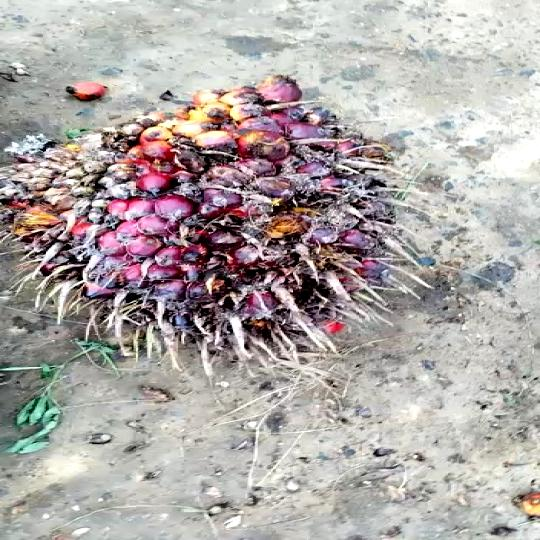masak: (0, 88, 428, 363)
